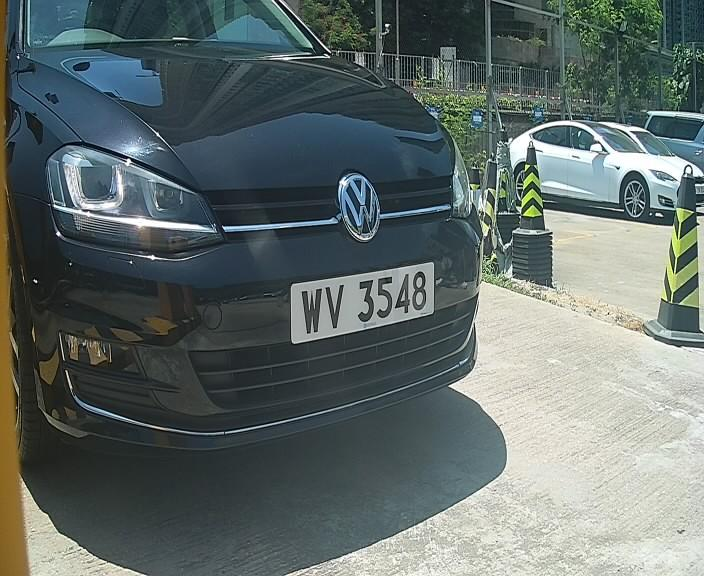privatecar: (7, 24, 507, 489)
